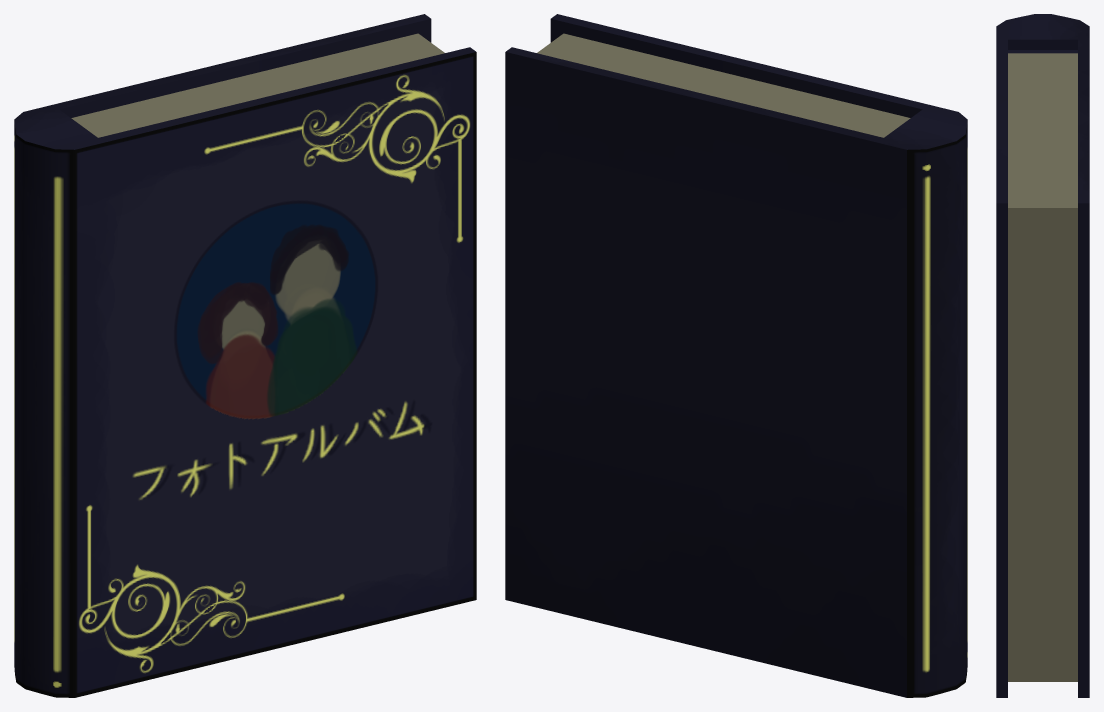
Rendered from PhotoAlbum.fbx.
The picture shows the model from 3 angles, left to right: view 1: azimuth 30°, elevation 25°; view 2: azimuth 150°, elevation 25°; view 3: azimuth 270°, elevation 25°; orthographic projection. The views are drawn at different scales.
Visible parts, largest first — view 1: PhotoAlbum; view 2: PhotoAlbum; view 3: PhotoAlbum.
Part boxes in pixels (<box>): PhotoAlbum: <box>14,14,476,697</box>; PhotoAlbum: <box>505,14,967,697</box>; PhotoAlbum: <box>996,14,1089,697</box>.
Bounding box in the file's own units: 35.95 × 43.81 × 7.5.
